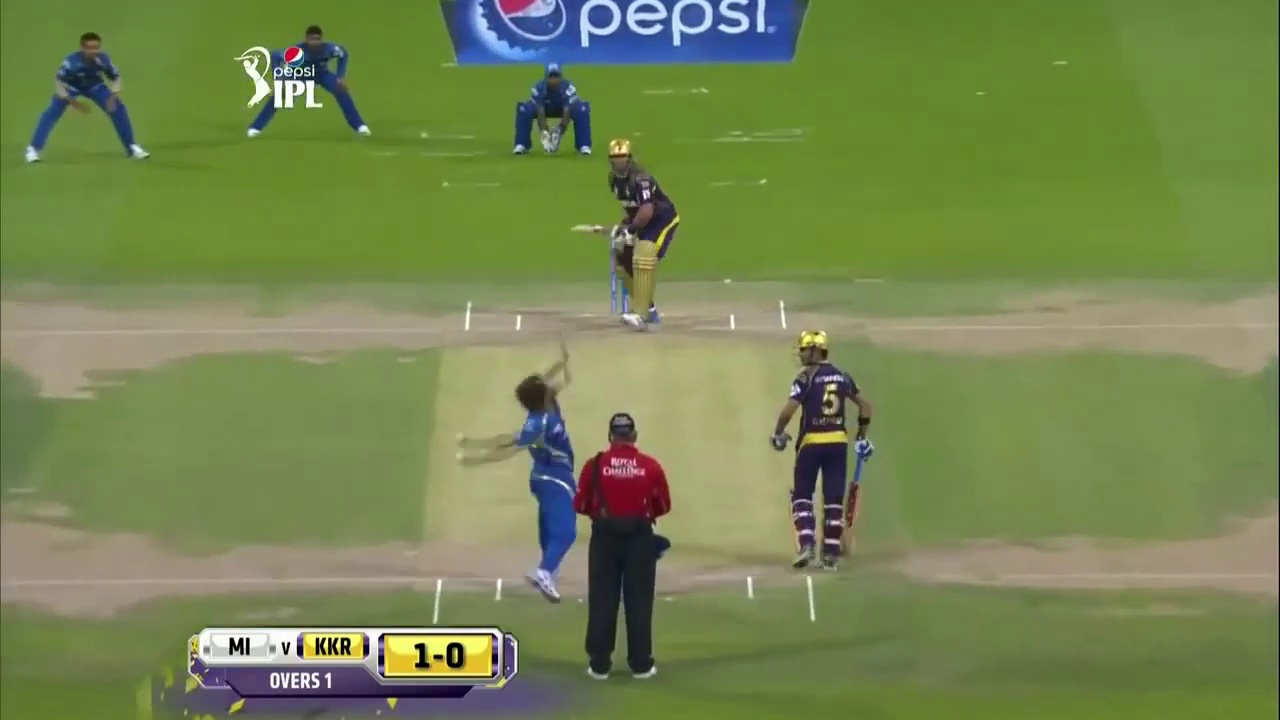bat: (847, 456, 863, 559), (568, 223, 609, 233)
